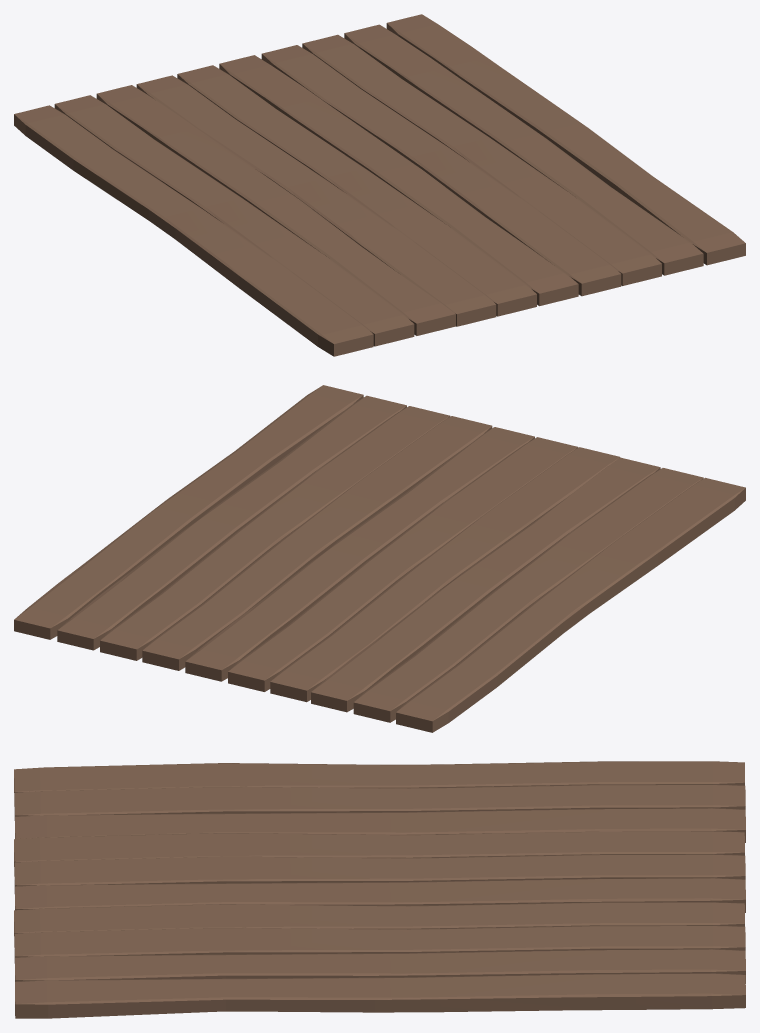
File: GameObject.fbx
The picture shows the model from 3 angles, top to bottom: view 1: azimuth 30°, elevation 25°; view 2: azimuth 150°, elevation 25°; view 3: azimuth 270°, elevation 25°; orthographic projection. The views are drawn at different scales.
Visible parts, largest first — view 1: GameObject; view 2: GameObject; view 3: GameObject.
Part boxes in pixels (left/top/right/bottom): GameObject: left=14, top=14, right=745, bottom=356; GameObject: left=14, top=385, right=745, bottom=732; GameObject: left=14, top=761, right=745, bottom=1018.
Size of the model in its own units: 494 by 18.75 by 634.
